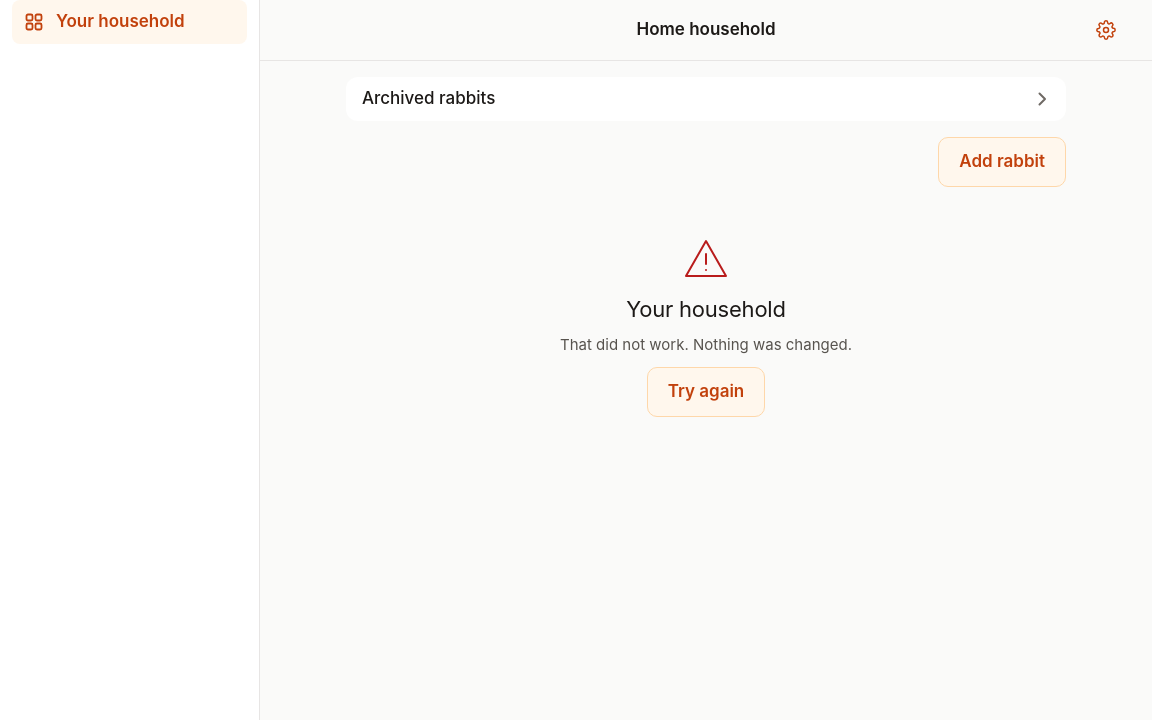
Test: opens Settings as its own screen from the gear control
Expected: the heading "Home household" is shown, [636,19,776,39]
Click the button named "Open Settings & Profile".
click(1106, 30)  # box [1084,8,1128,52]
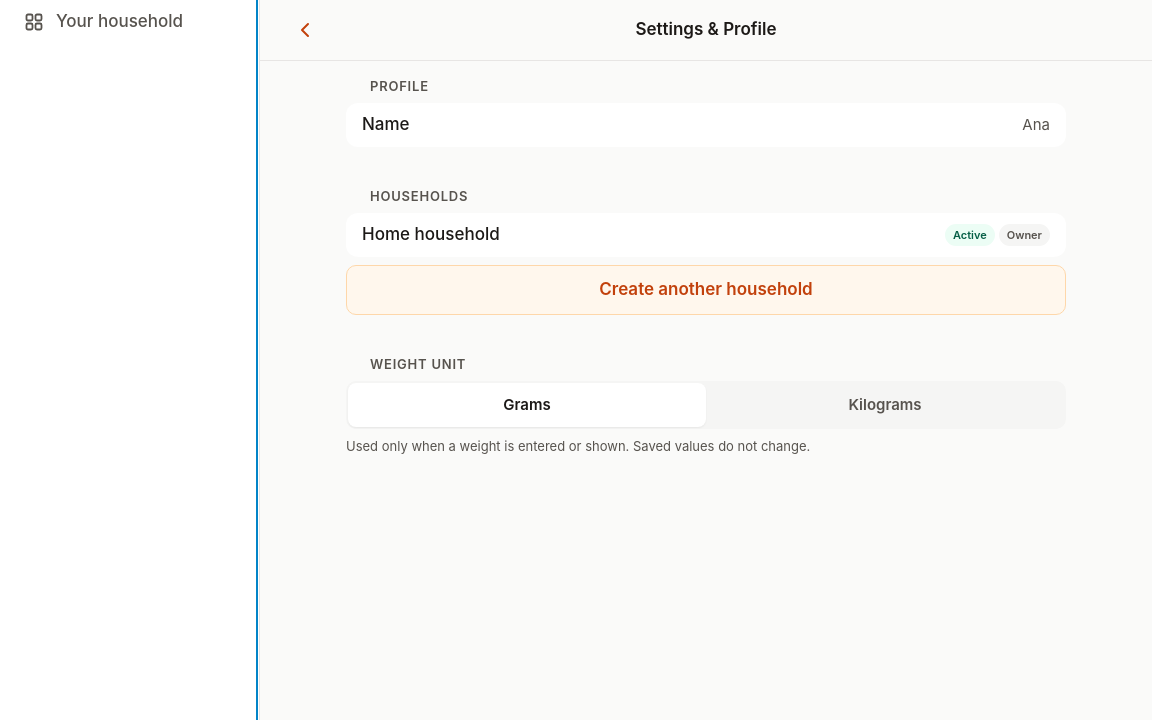
Result: the heading "Settings & Profile" is shown at [636,19,776,39]
